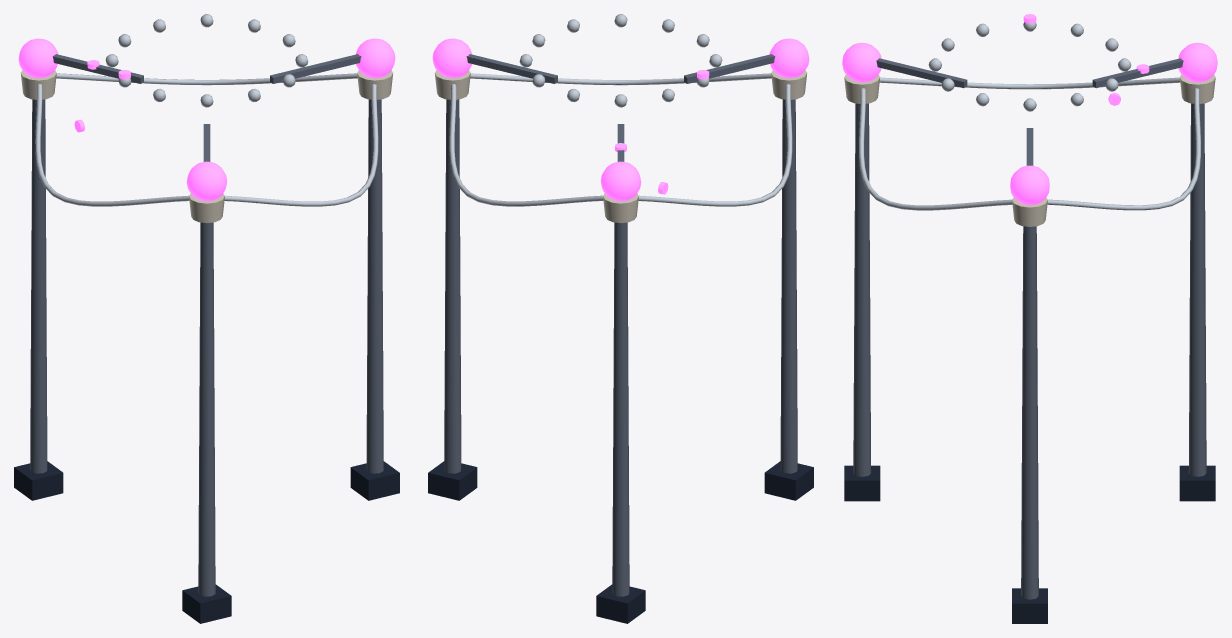
Rendered from tower_arc_range_s5.glb.
The picture shows the model from 3 angles, left to right: view 1: azimuth 30°, elevation 25°; view 2: azimuth 150°, elevation 25°; view 3: azimuth 270°, elevation 25°; orthographic projection.
Visible parts, largest first — view 1: arc_sat_strut2, arc_sat_strut1, arc_sat_strut0, arc_relay_wire1, arc_relay_wire2, arc_relay_wire0, arc_sat_foot1, arc_sat_foot2, arc_sat_foot0, arc_sat_electrode2, arc_sat_electrode1, arc_sat_electrode0 (+5 smaller); view 2: arc_sat_strut0, arc_sat_strut1, arc_sat_strut2, arc_relay_wire2, arc_relay_wire0, arc_relay_wire1, arc_sat_foot1, arc_sat_foot0, arc_sat_foot2, arc_sat_electrode0, arc_sat_electrode1, arc_sat_electrode2 (+5 smaller); view 3: arc_sat_strut1, arc_sat_strut0, arc_sat_strut2, arc_relay_wire1, arc_relay_wire2, arc_relay_wire0, arc_sat_electrode1, arc_sat_electrode0, arc_sat_electrode2, arc_sat_foot0, arc_sat_foot2, arc_sat_foot1 (+5 smaller).
Boxes of the visible parts, x1,y1,x2,y2 form: arc_sat_strut2: (198,222,215,596); arc_sat_strut1: (366,99,383,473); arc_sat_strut0: (30,99,47,473); arc_relay_wire1: (224,84,378,206); arc_relay_wire2: (35,84,189,206); arc_relay_wire0: (56,73,357,85); arc_sat_foot1: (350,461,399,500); arc_sat_foot2: (182,584,231,623); arc_sat_foot0: (14,461,63,500); arc_sat_electrode2: (186,161,227,201); arc_sat_electrode1: (355,38,395,78); arc_sat_electrode0: (18,38,58,78); arc_sat_strut0: (612,222,629,596); arc_sat_strut1: (444,99,461,473); arc_sat_strut2: (780,99,797,473); arc_relay_wire2: (638,84,792,206); arc_relay_wire0: (449,84,603,206); arc_relay_wire1: (470,73,771,85); arc_sat_foot1: (428,461,477,500); arc_sat_foot0: (596,584,645,623); arc_sat_foot2: (764,461,813,500); arc_sat_electrode0: (600,161,641,201); arc_sat_electrode1: (432,38,472,78); arc_sat_electrode2: (769,38,809,78); arc_sat_strut1: (1021,226,1038,599); arc_sat_strut0: (1188,103,1206,476); arc_sat_strut2: (853,103,871,476); arc_relay_wire1: (859,88,1012,210); arc_relay_wire2: (879,77,1180,89); arc_relay_wire0: (1047,88,1200,210); arc_sat_electrode1: (1010,165,1049,205); arc_sat_electrode0: (1178,42,1217,82); arc_sat_electrode2: (842,42,881,82); arc_sat_foot0: (1179,465,1215,501); arc_sat_foot2: (844,465,880,501); arc_sat_foot1: (1012,588,1047,623).
Size of the model in its own units: 1.74 by 2.34 by 1.67.
